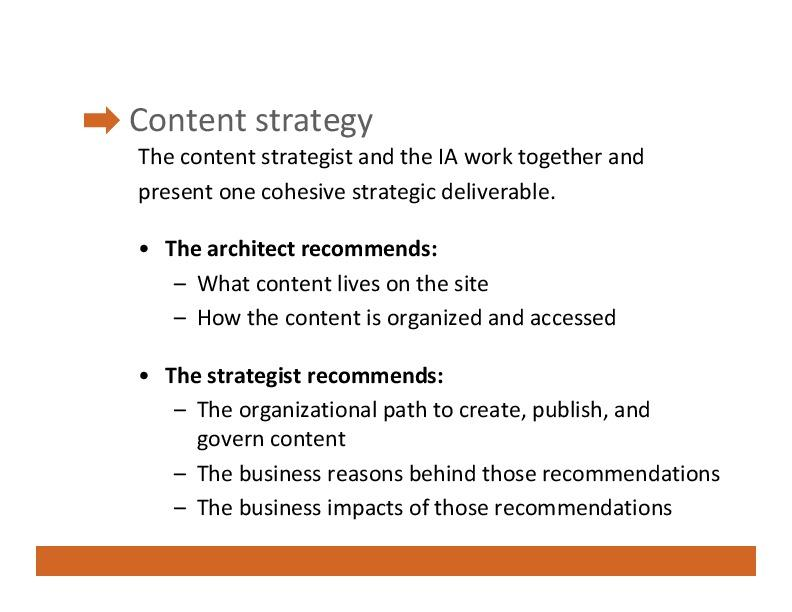paragraph: (136, 143, 737, 530)
subtitle: (158, 350, 453, 393), (160, 235, 446, 263)
title: (130, 92, 386, 143)
